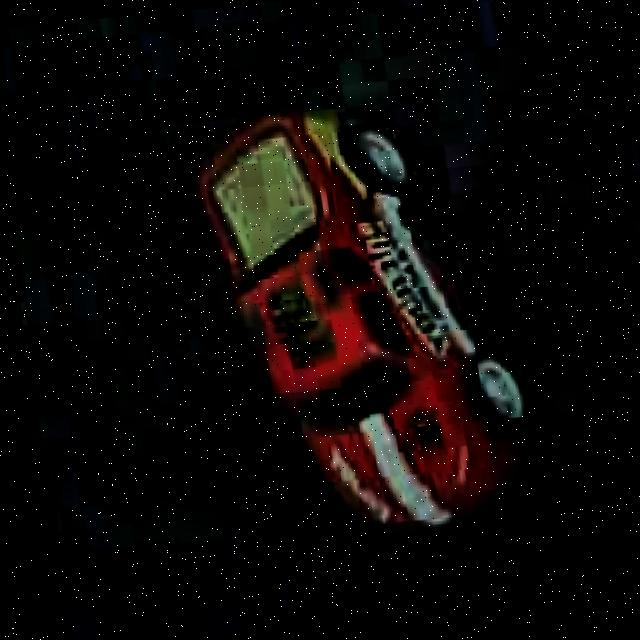car: (179, 89, 551, 545)
